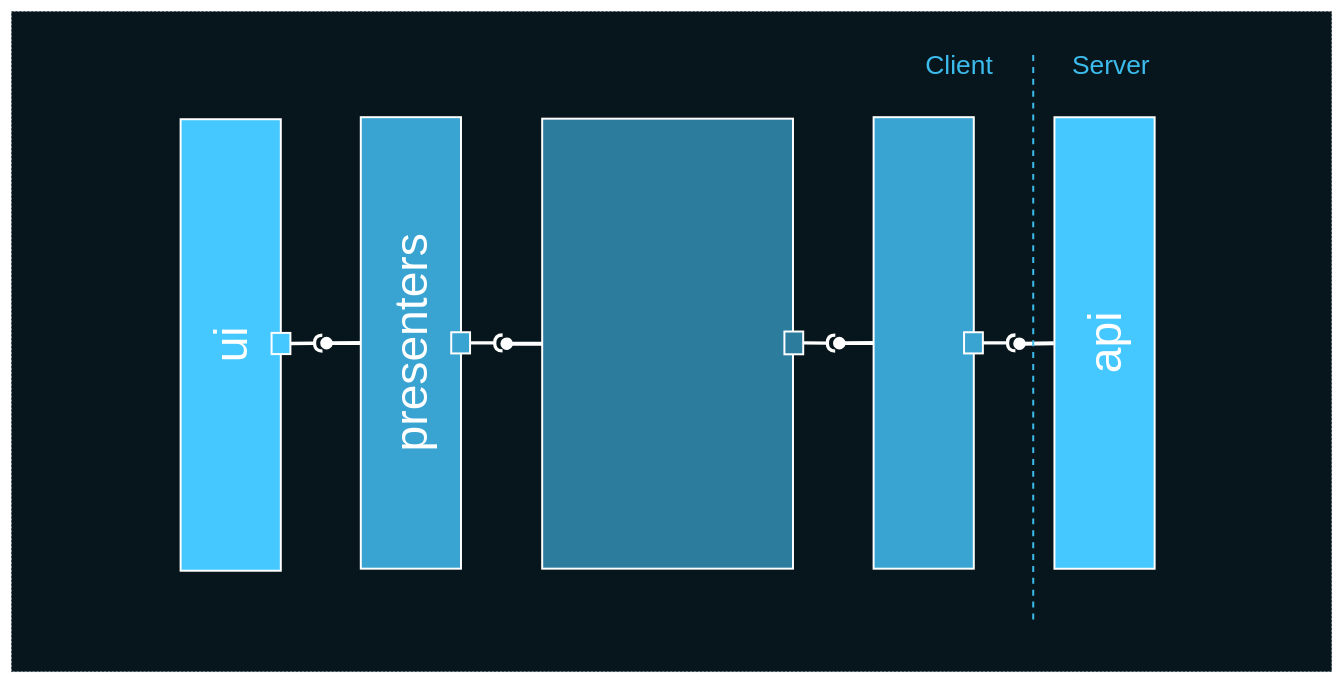
The diagram is 1343 pixels wide and 683 high, and some of its shapes have lost their labels. Here are the shapes that lost their labels. From the top down, the box of each, then its label:
(541, 117, 794, 569): domain
(872, 116, 974, 569): gateways
